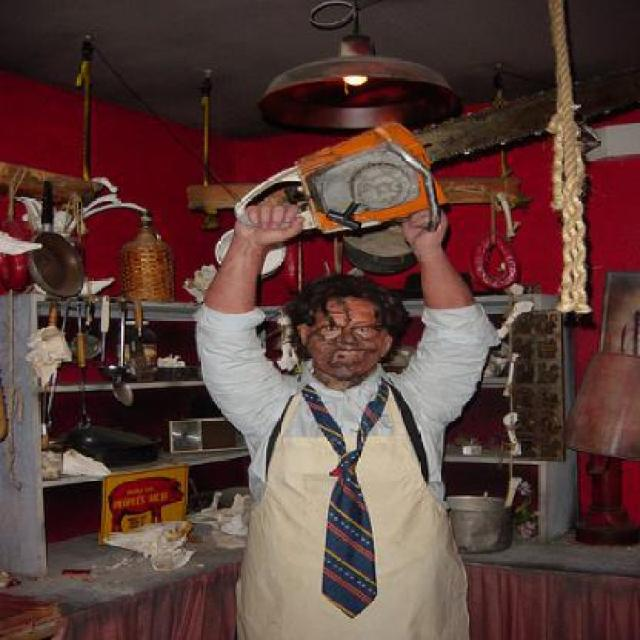Chainsaw: (234, 65, 637, 233)
